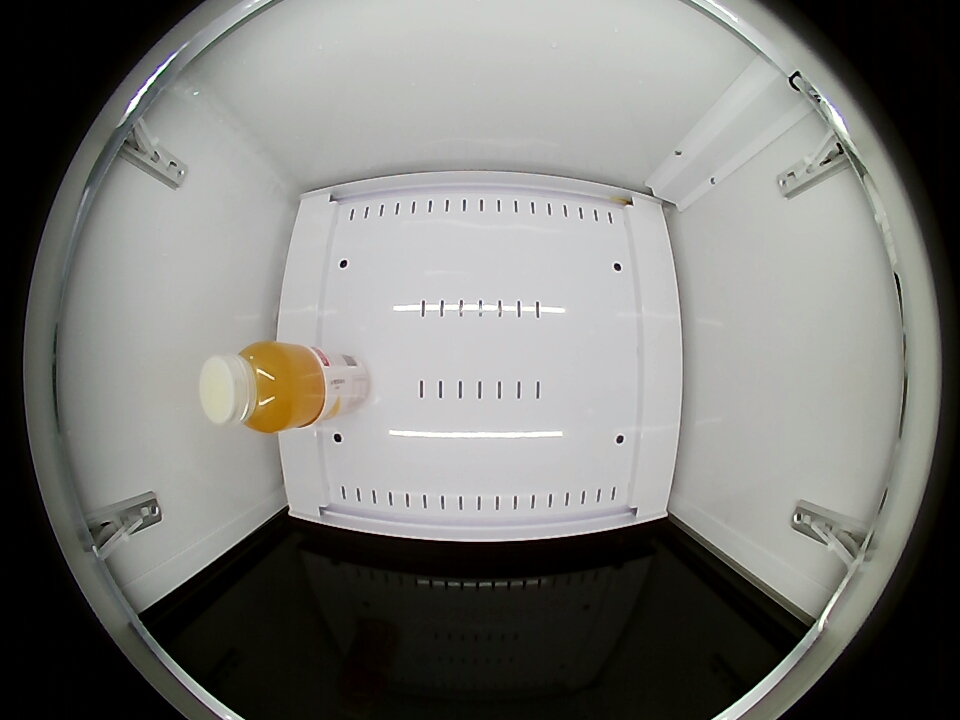weic: (199, 340, 326, 434)
